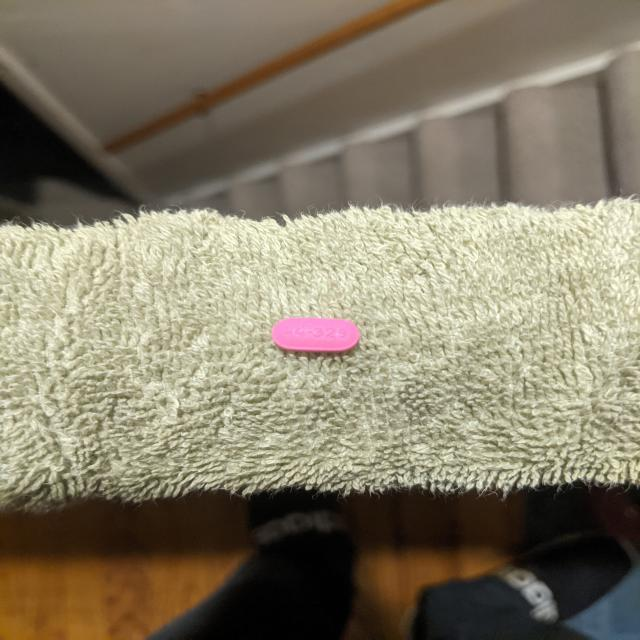non-organic waste: (270, 316, 361, 354)
